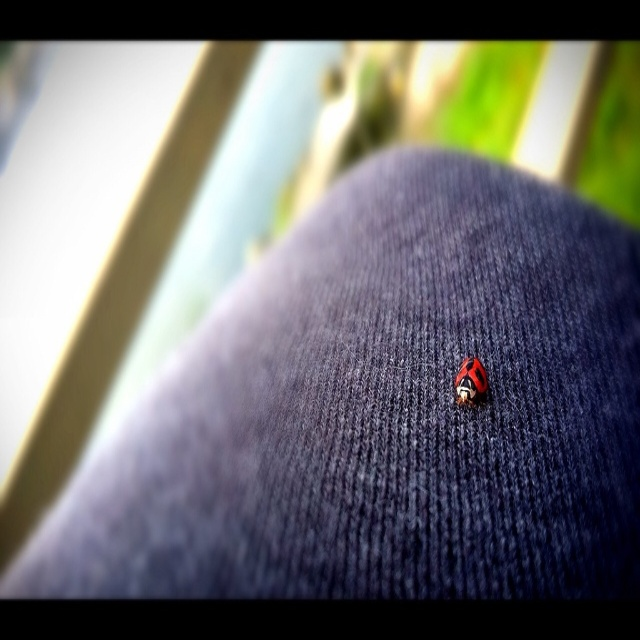Ladybug: (456, 356, 487, 411)
